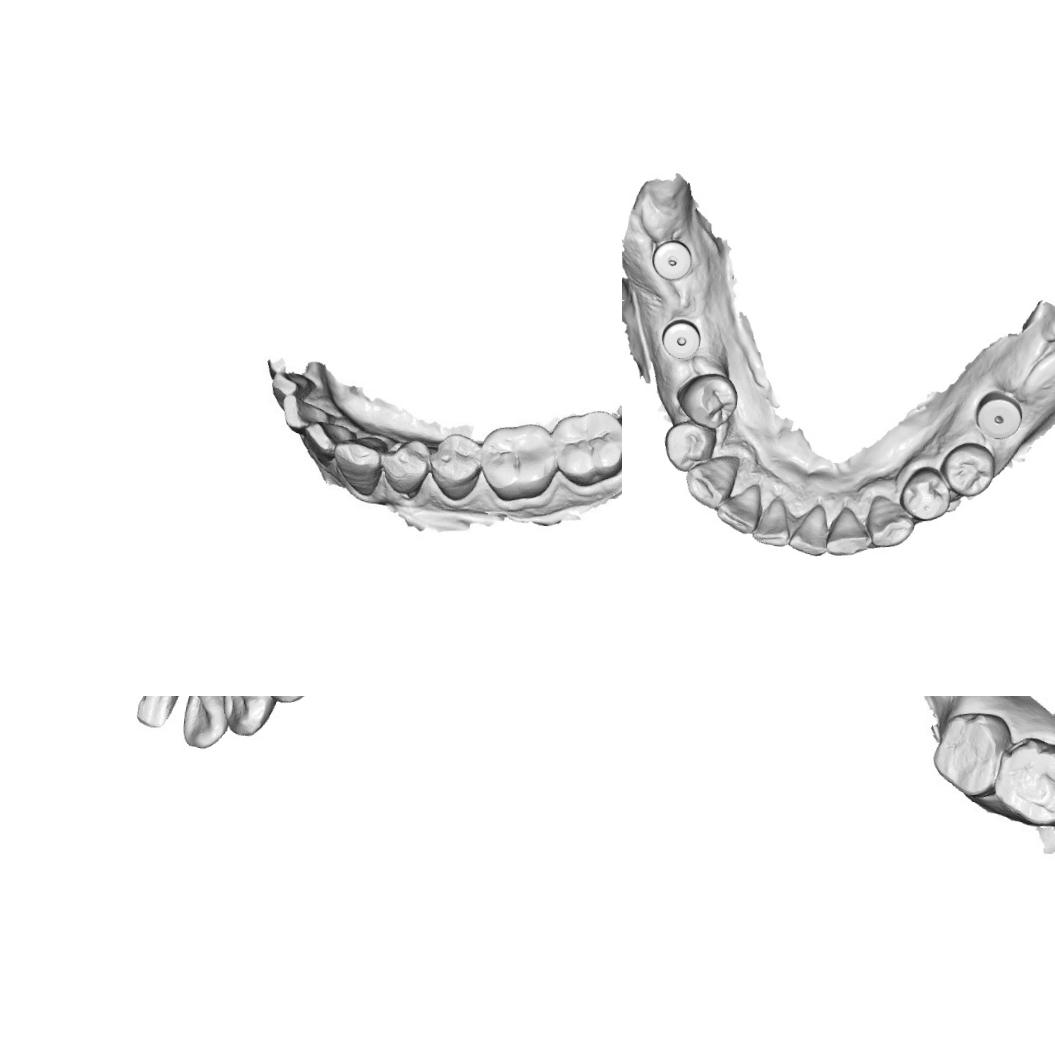canine: (681, 448, 740, 513), (335, 432, 386, 500), (864, 491, 918, 550), (219, 696, 272, 739)
crown: (132, 696, 185, 730)
implant: (972, 388, 1025, 442), (648, 234, 696, 283), (656, 315, 705, 362)
incisor: (712, 478, 764, 538), (783, 499, 833, 558), (824, 502, 874, 560), (177, 696, 230, 750), (306, 414, 356, 466), (749, 492, 793, 548), (271, 367, 322, 409), (284, 395, 331, 429)
molar: (478, 421, 558, 504), (933, 708, 1006, 792), (552, 406, 622, 489), (990, 739, 1055, 824)
premolar: (673, 368, 742, 432), (936, 438, 1001, 500), (378, 432, 433, 504), (430, 432, 482, 504), (894, 462, 954, 524), (659, 416, 716, 474)
